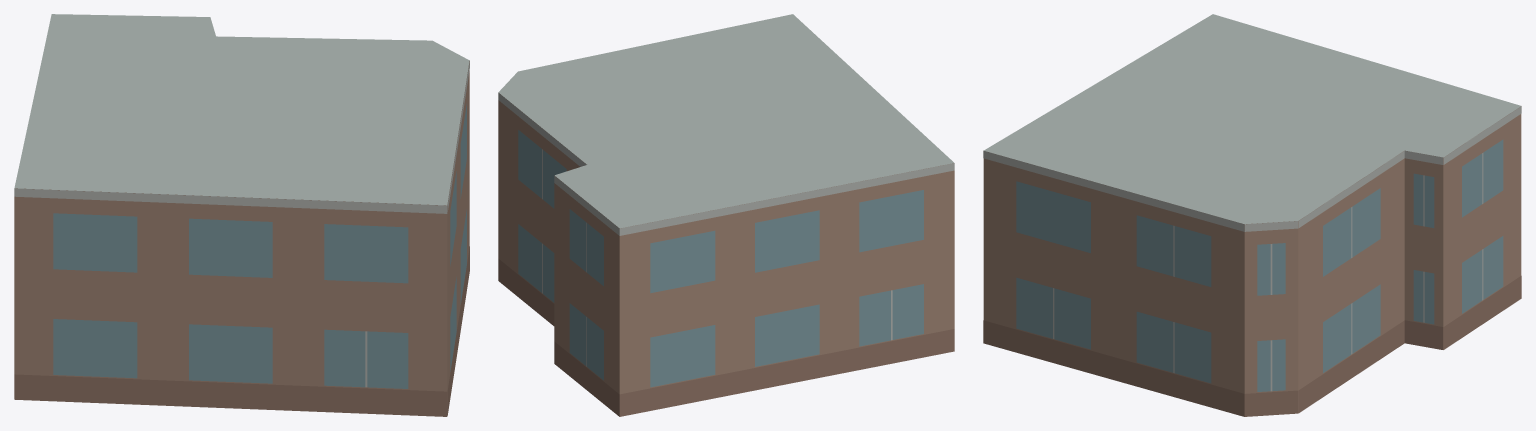
The model's file is survey-upis-32942124.glb.
3 views of the same model, side by side, from view 1: azimuth 30°, elevation 25°; view 2: azimuth 150°, elevation 25°; view 3: azimuth 270°, elevation 25° (orthographic). The views are drawn at different scales.
Parts seen in each view (by area): view 1: survey-upis-32942124.tmp; view 2: survey-upis-32942124.tmp; view 3: survey-upis-32942124.tmp.
Boxes of the visible parts, x1,y1,x2,y2 form: survey-upis-32942124.tmp: (14,14,469,416); survey-upis-32942124.tmp: (498,14,954,416); survey-upis-32942124.tmp: (983,14,1521,416).
Size of the model in its own units: 14.28 by 6.1 by 15.45.
